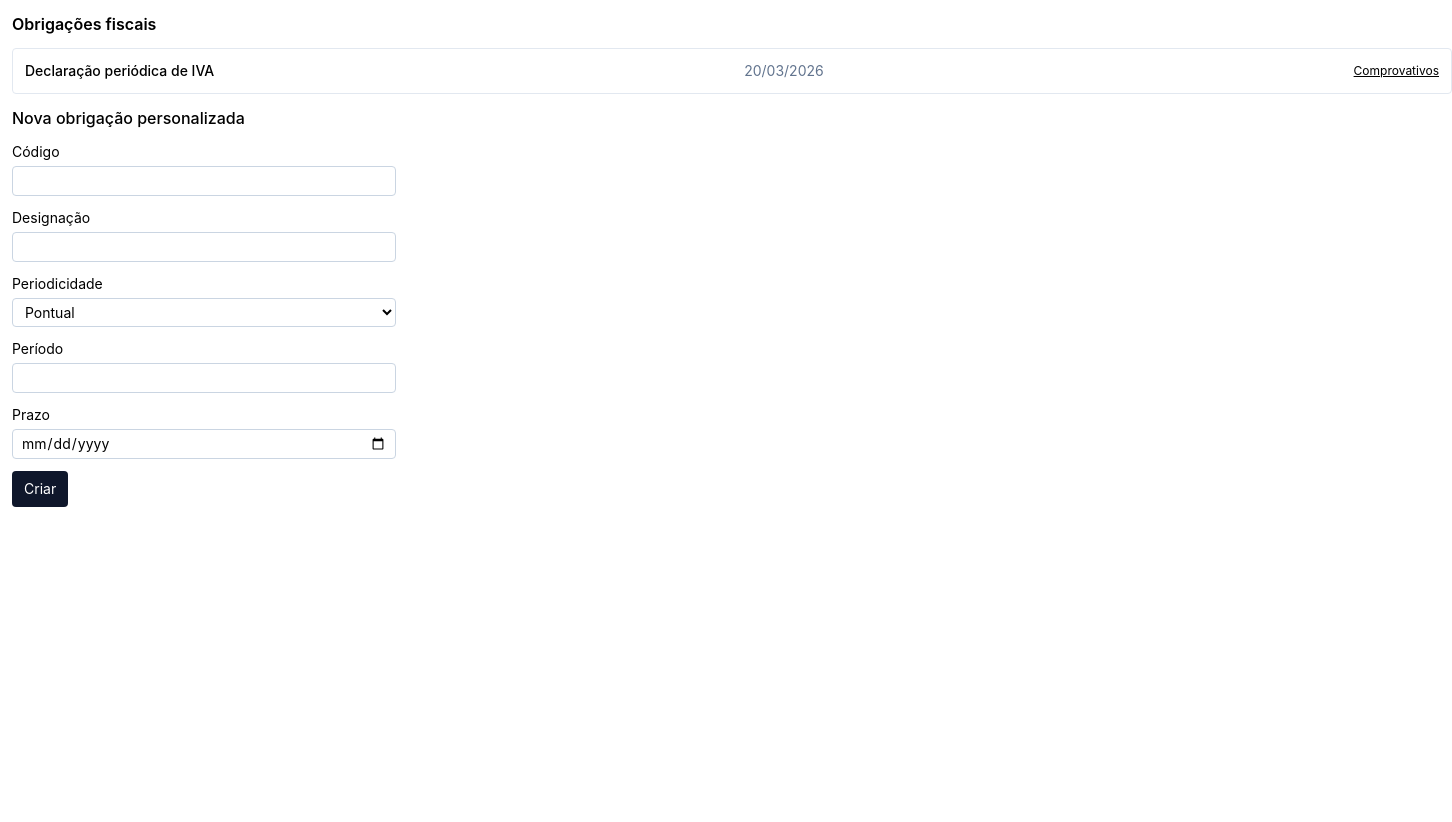
Test: ObligationsSection › attachments › opens the panel for the row whose receipts button was pressed
The width and height of the screenshot is (1452, 822).
Click the button "Comprovativos": (1396, 71) [1354,63,1439,79]
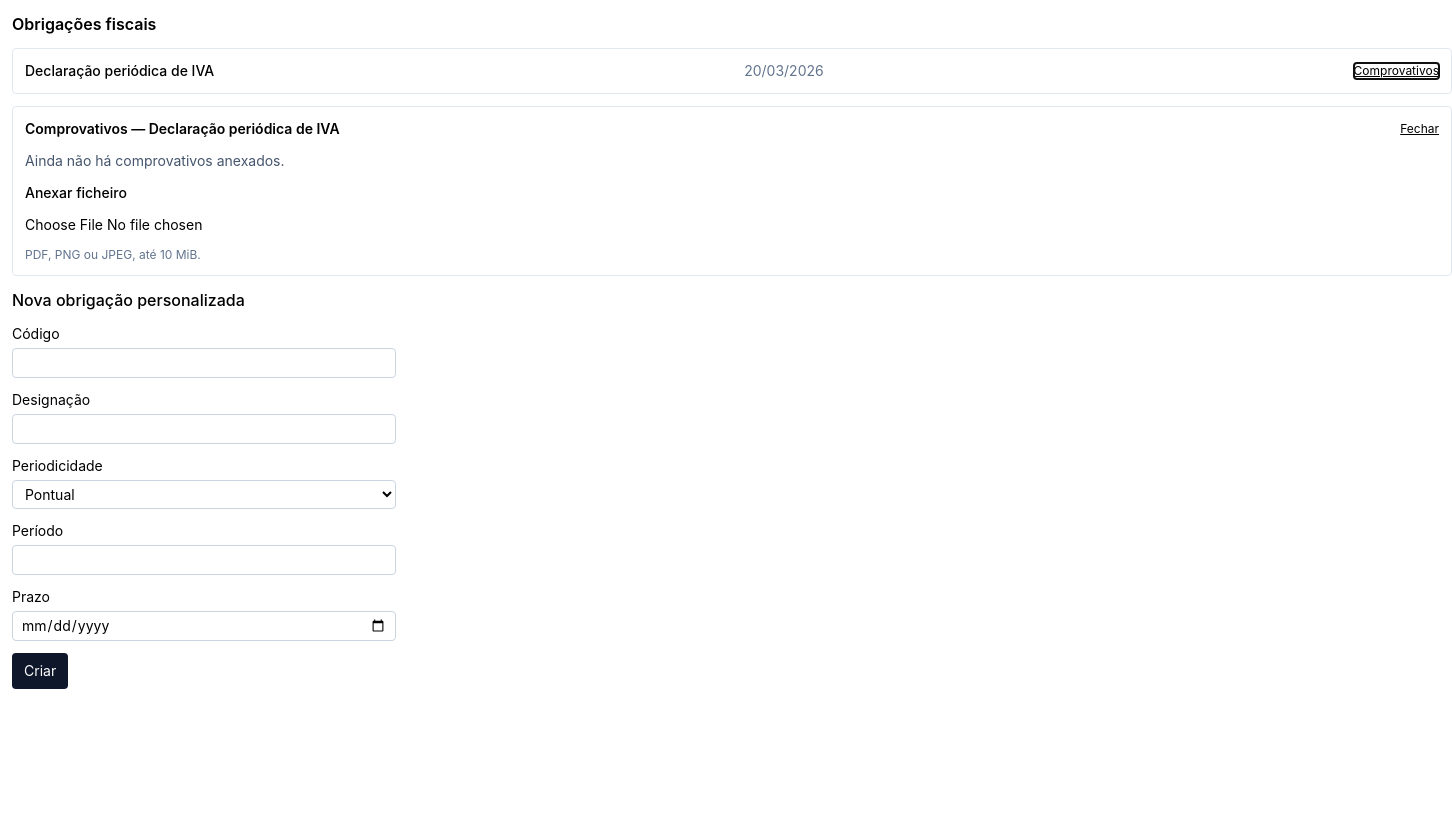
expect the element "Comprovativos" is shown: met, box [12,106,1451,276]
